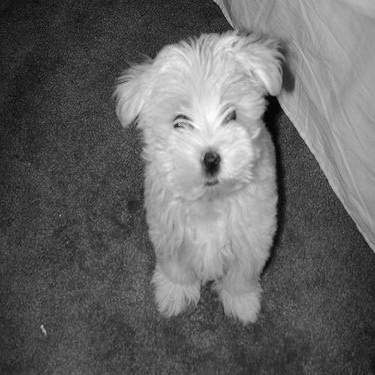dog: (104, 24, 290, 328)
